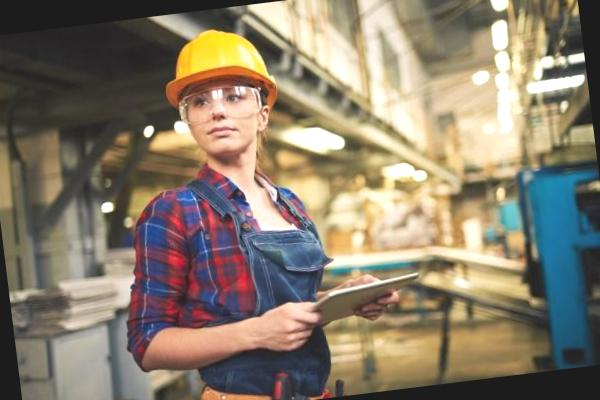helmet: (156, 20, 284, 104)
no_vest: (117, 157, 337, 392)
person: (94, 19, 349, 400)
